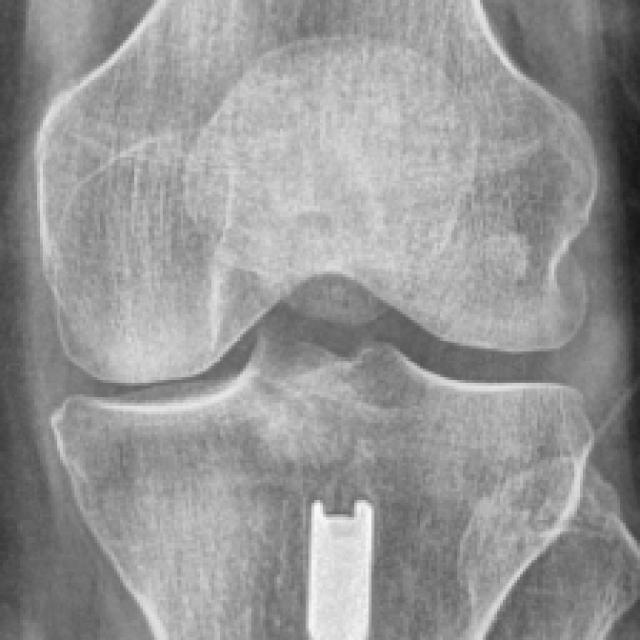femur: (33, 1, 600, 387)
tibia: (48, 327, 594, 640)
